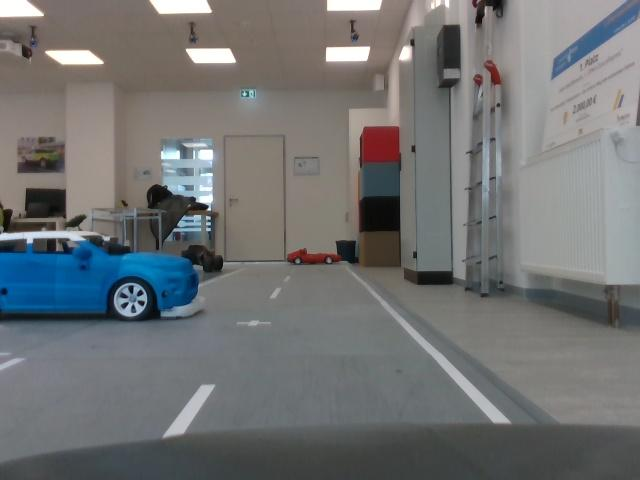car: (2, 228, 209, 321), (178, 240, 233, 278), (288, 245, 343, 270)
